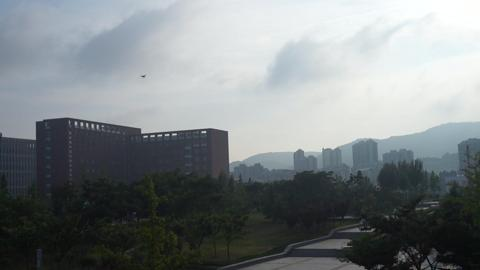UAV: (140, 75, 147, 79)
